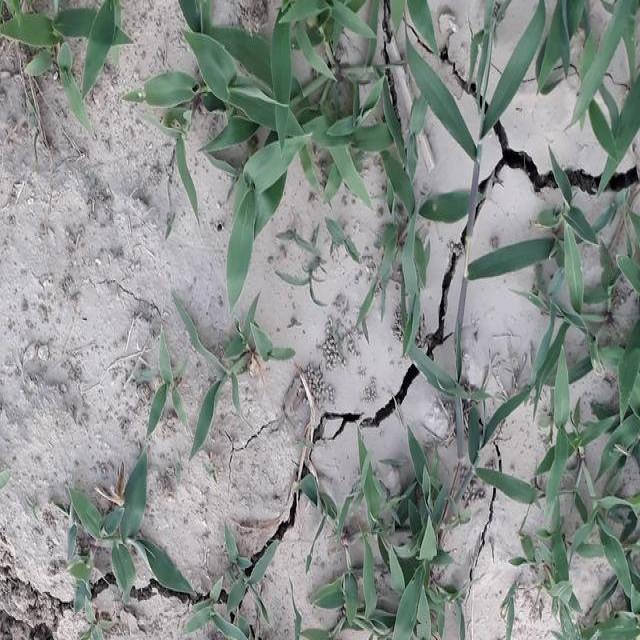weed: (490, 188, 640, 626), (180, 0, 443, 199), (298, 450, 464, 632), (478, 3, 640, 172), (63, 454, 195, 603), (170, 295, 287, 441), (374, 211, 460, 386), (15, 0, 136, 88), (455, 379, 532, 495), (228, 527, 274, 624), (139, 335, 183, 426), (276, 228, 323, 308), (226, 187, 255, 302), (195, 575, 232, 640), (325, 220, 355, 258)
